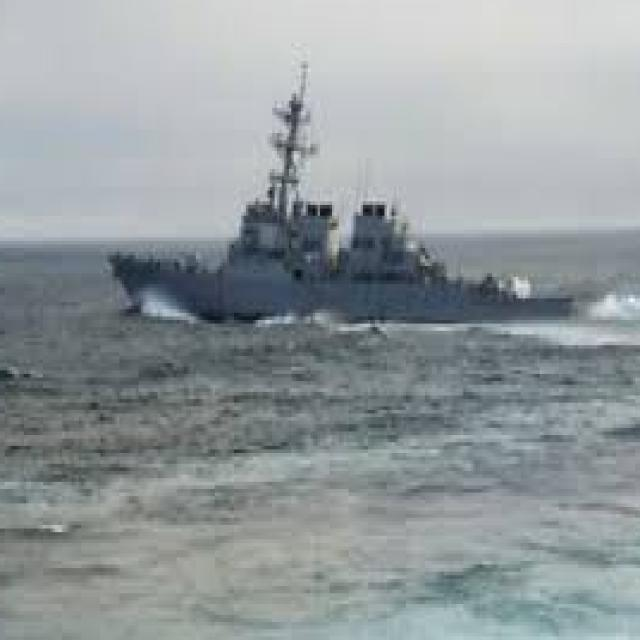navalvessels: (110, 93, 617, 350)
